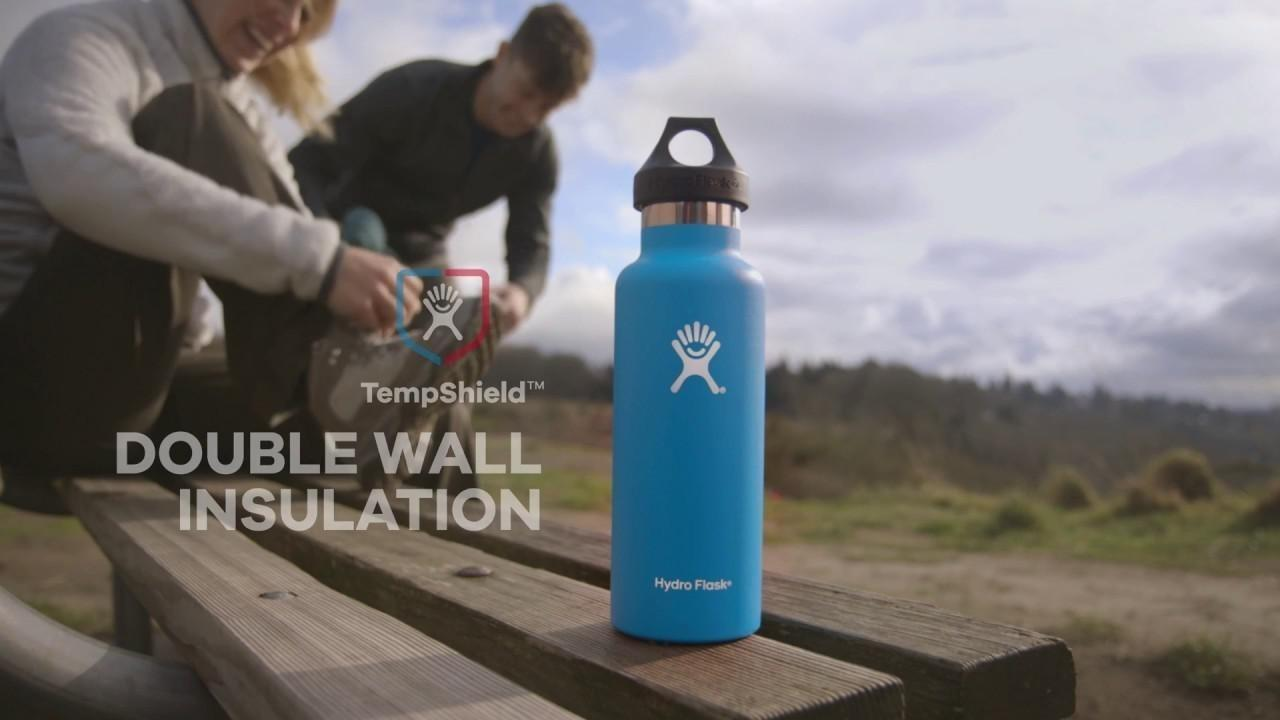gym bottle: (607, 113, 770, 646)
